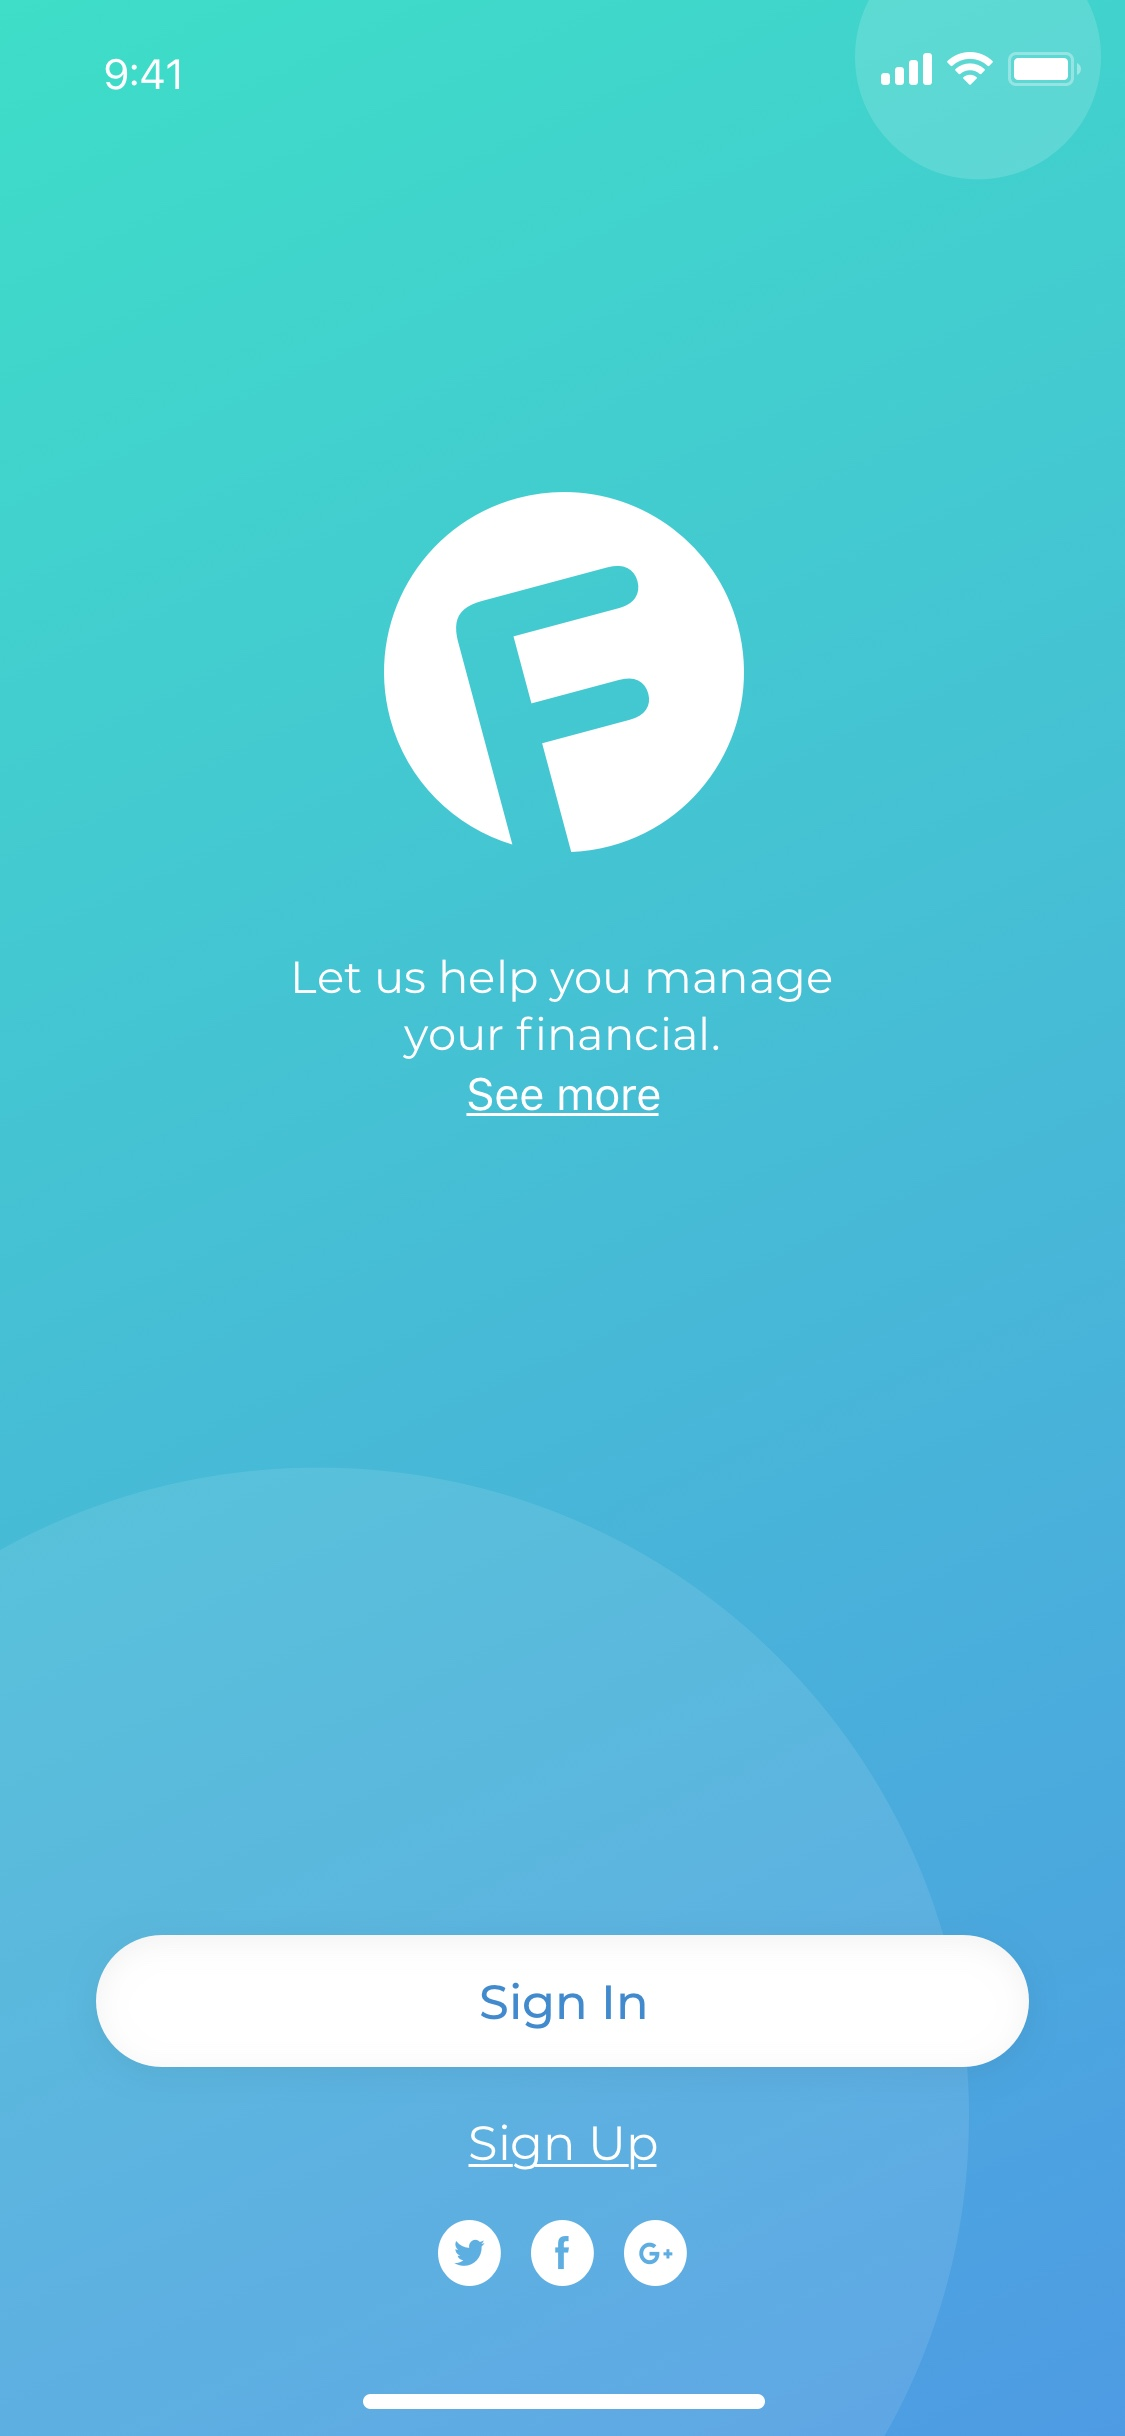Icon: (530, 2218, 597, 2288), (437, 2218, 503, 2287), (623, 2218, 688, 2287)
Image: (382, 491, 747, 854)
Text: (294, 959, 833, 1063), (465, 1077, 662, 1119)
TextButton: (96, 1934, 1030, 2068), (468, 2124, 659, 2172)
UpperTaskBar: (103, 51, 1085, 93)
